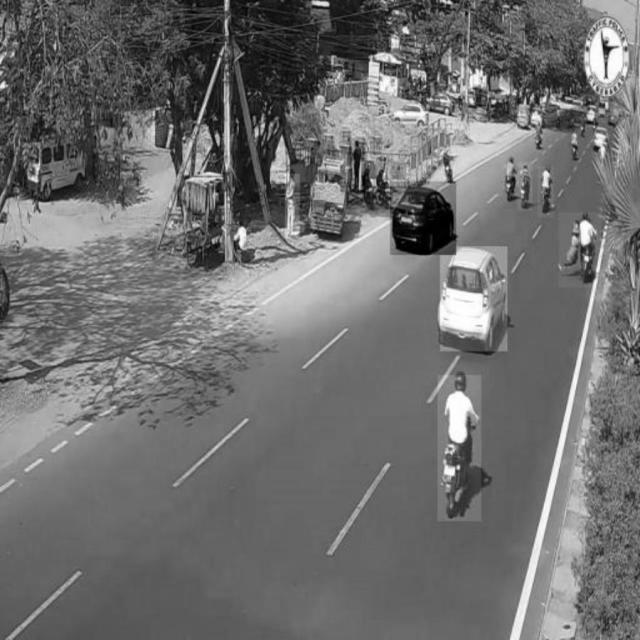accident: (560, 213, 602, 287)
person: (285, 174, 300, 238), (350, 137, 365, 193)
vehicle: (440, 246, 507, 350), (438, 375, 482, 521), (390, 182, 456, 255), (538, 167, 554, 218), (518, 163, 533, 210), (507, 158, 517, 200)
